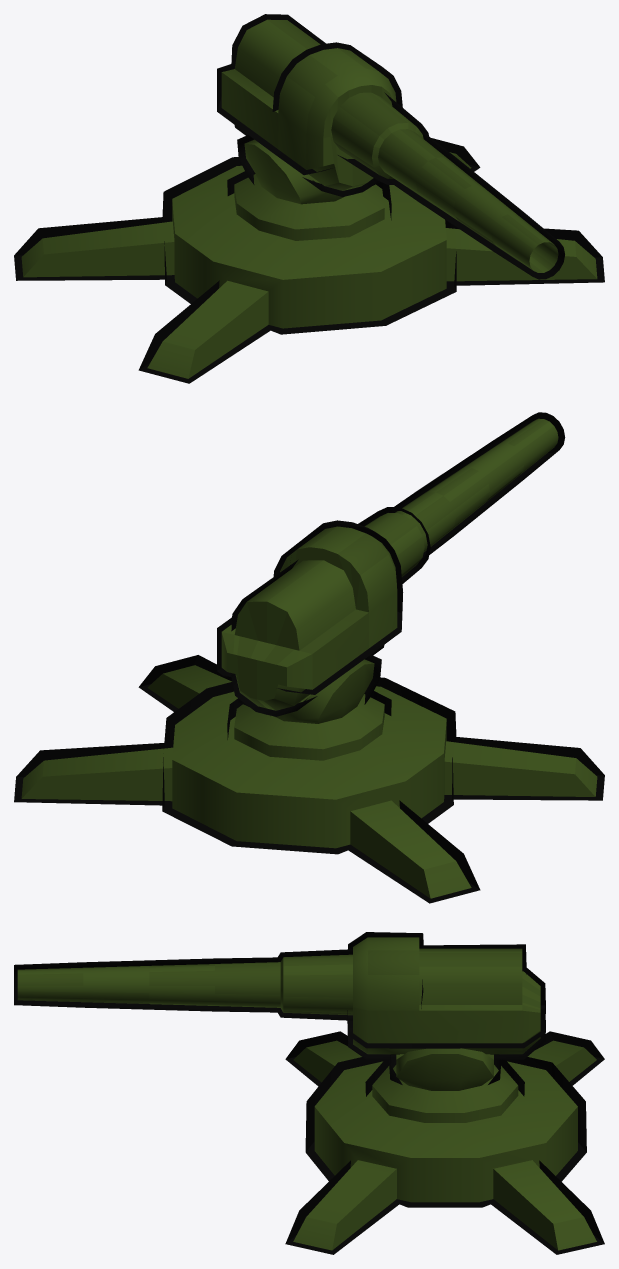
File: Antiaereo.fbx
The picture shows the model from 3 angles, top to bottom: view 1: azimuth 30°, elevation 25°; view 2: azimuth 150°, elevation 25°; view 3: azimuth 270°, elevation 25°; orthographic projection. The views are drawn at different scales.
Parts seen in each view (by area): view 1: Cube, Cube.001, Cube.002; view 2: Cube, Cube.001, Cube.002; view 3: Cube, Cube.001, Cube.002.
Part boxes in pixels (<box>): Cube: <box>14,138,604,383</box>; Cube.001: <box>217,14,564,279</box>; Cube.002: <box>227,135,391,240</box>; Cube: <box>14,655,604,903</box>; Cube.001: <box>217,412,565,716</box>; Cube.002: <box>227,655,391,760</box>; Cube: <box>285,1031,604,1254</box>; Cube.001: <box>14,932,545,1059</box>; Cube.002: <box>365,1048,524,1122</box>.
Size of the model in its own units: 949 by 460 by 1147.
